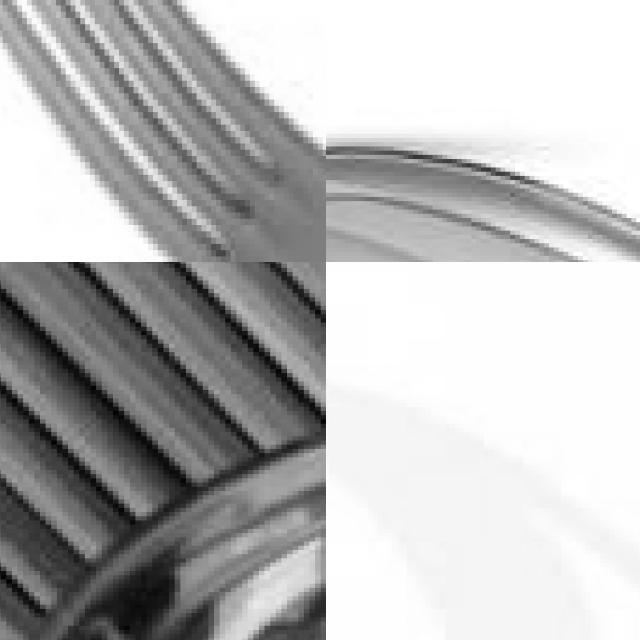forks: (0, 0, 326, 262)
spoons: (0, 394, 326, 640), (326, 121, 640, 262)
